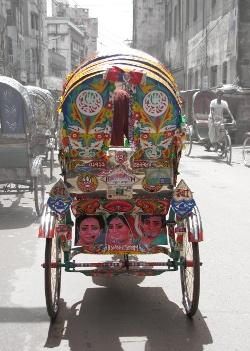Rickshaw: (39, 49, 202, 318), (0, 76, 44, 215), (26, 86, 56, 178), (0, 77, 34, 138), (184, 90, 215, 155)
